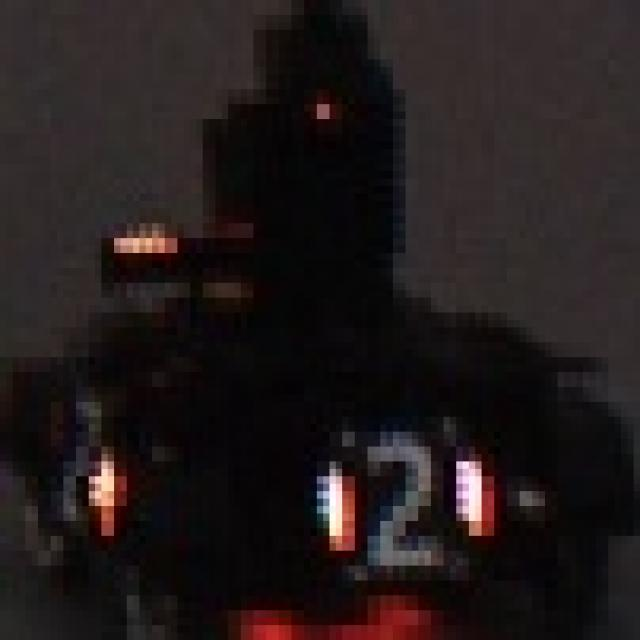R2: (329, 439, 488, 566)
